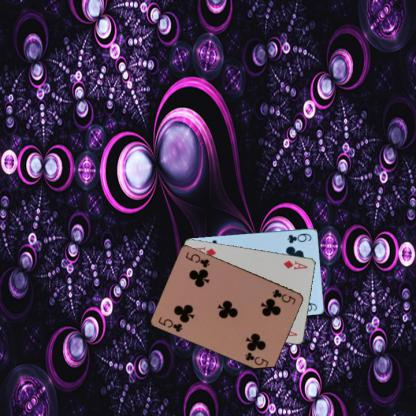5c: (270, 286, 297, 306), (156, 314, 184, 333)
6c: (285, 230, 312, 245)
Ad: (281, 258, 309, 270)
